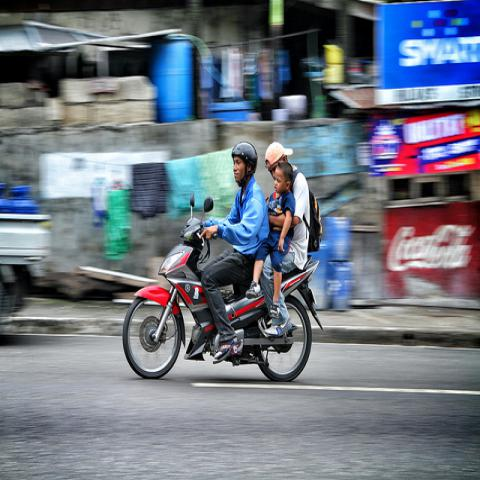motorcycle: (126, 195, 324, 378)
